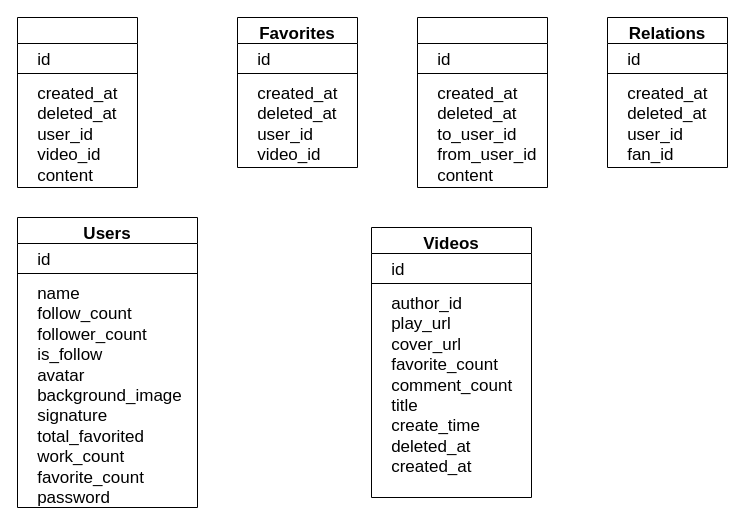
This 745x528 diagram has some shape labels left out. Each missing label, with the box of its shape:
Comments: (16, 16, 138, 188)
Messages: (416, 16, 548, 188)
